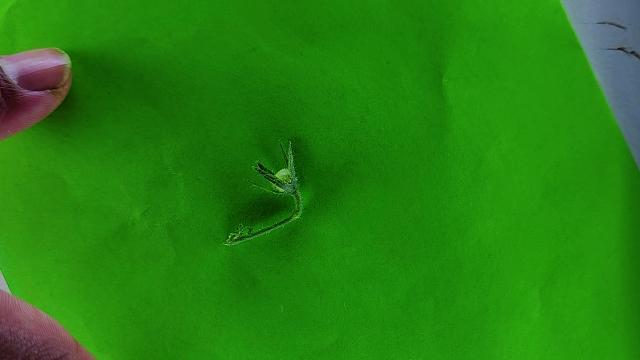Fruit Bud: (247, 140, 298, 199)
